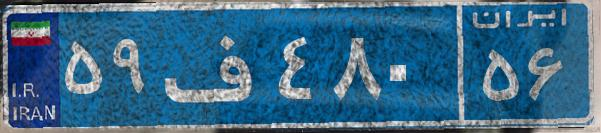0: (385, 28, 445, 110)
4: (273, 28, 330, 110)
5: (57, 26, 110, 107), (475, 38, 525, 113)
6: (525, 38, 570, 115)
8: (330, 28, 385, 110)
9: (110, 28, 158, 105)
ف: (158, 15, 273, 115)
